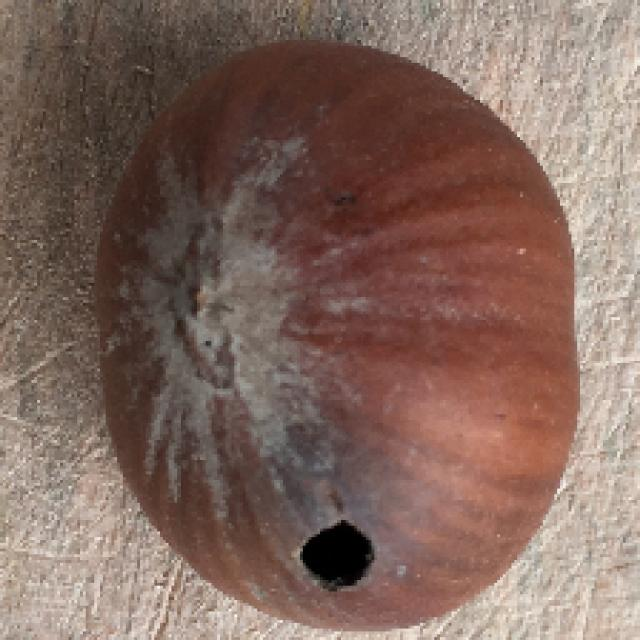damagedHazelnut: (97, 43, 584, 636)
